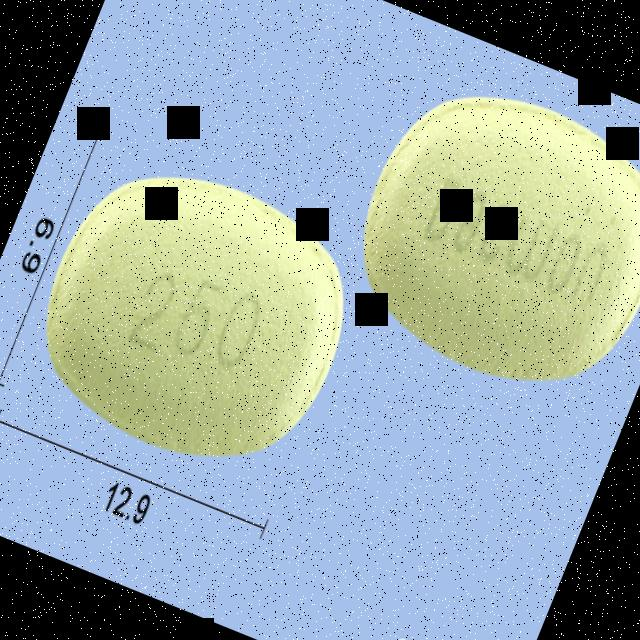Clasin: (8, 132, 382, 497), (320, 58, 640, 426)
